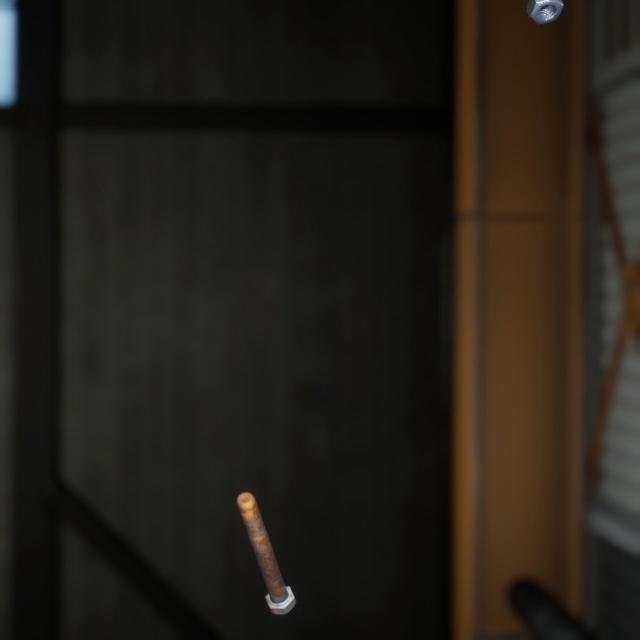bolt: (232, 464, 300, 596)
nut: (521, 0, 567, 22)
